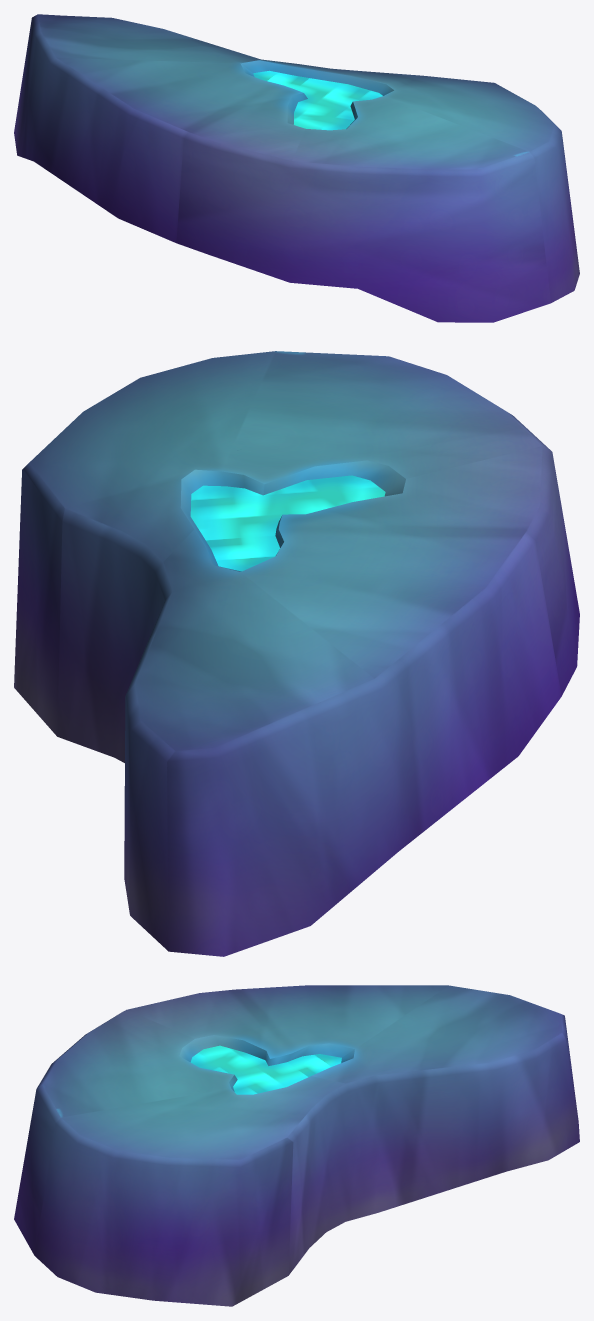
The model's file is island_garden_1.fbx.
The picture shows the model from 3 angles, top to bottom: view 1: azimuth 30°, elevation 25°; view 2: azimuth 150°, elevation 25°; view 3: azimuth 270°, elevation 25°; orthographic projection. The views are drawn at different scales.
Parts seen in each view (by area): view 1: island_garden_1; view 2: island_garden_1; view 3: island_garden_1.
Boxes of the visible parts, bbox=[...] form: island_garden_1: bbox=[14, 14, 579, 322]; island_garden_1: bbox=[14, 351, 579, 956]; island_garden_1: bbox=[14, 985, 579, 1306].
Bounding box in the file's own units: 3960 × 1858 × 5636.
Materials: 1 (1 with a texture image).
